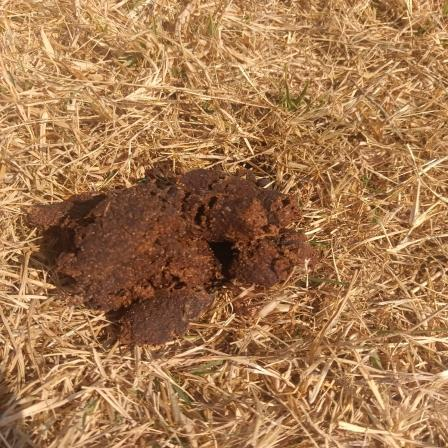dog-poop: (26, 162, 338, 352)
